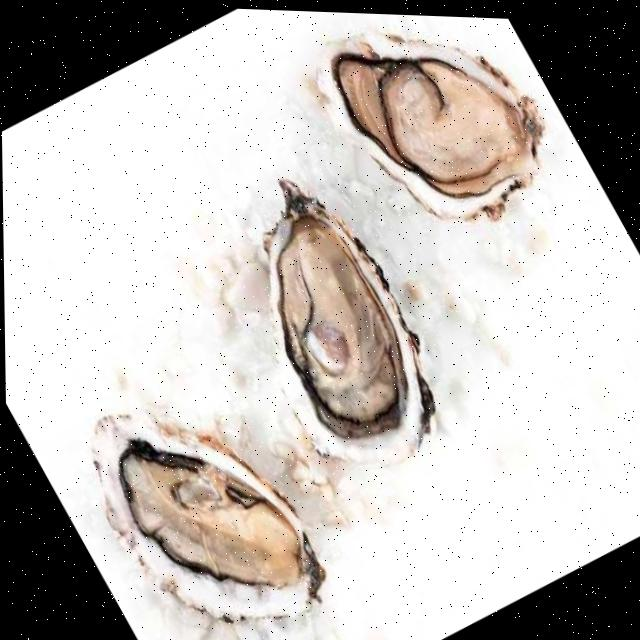Oyster-Open: (93, 411, 325, 622), (264, 180, 435, 464), (316, 31, 543, 221)
